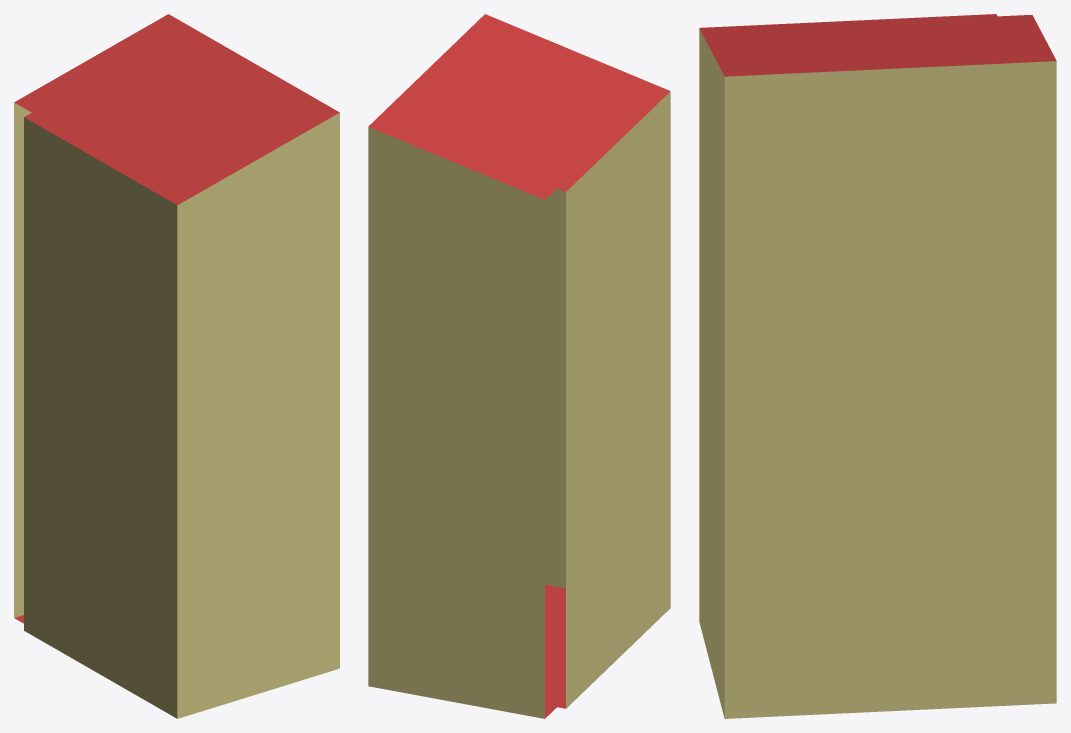
3 views of the same model, side by side, from view 1: azimuth 30°, elevation 25°; view 2: azimuth 150°, elevation 25°; view 3: azimuth 270°, elevation 25° (orthographic). The views are drawn at different scales.
Size of the model in its own units: 2.06 by 2.79 by 5.53.
